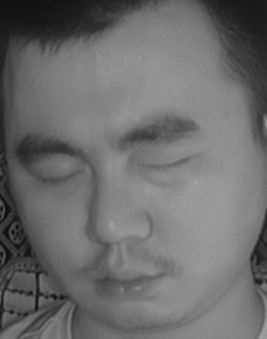blink: (138, 146, 196, 187), (34, 160, 83, 198)
mouth: (88, 255, 166, 306)
